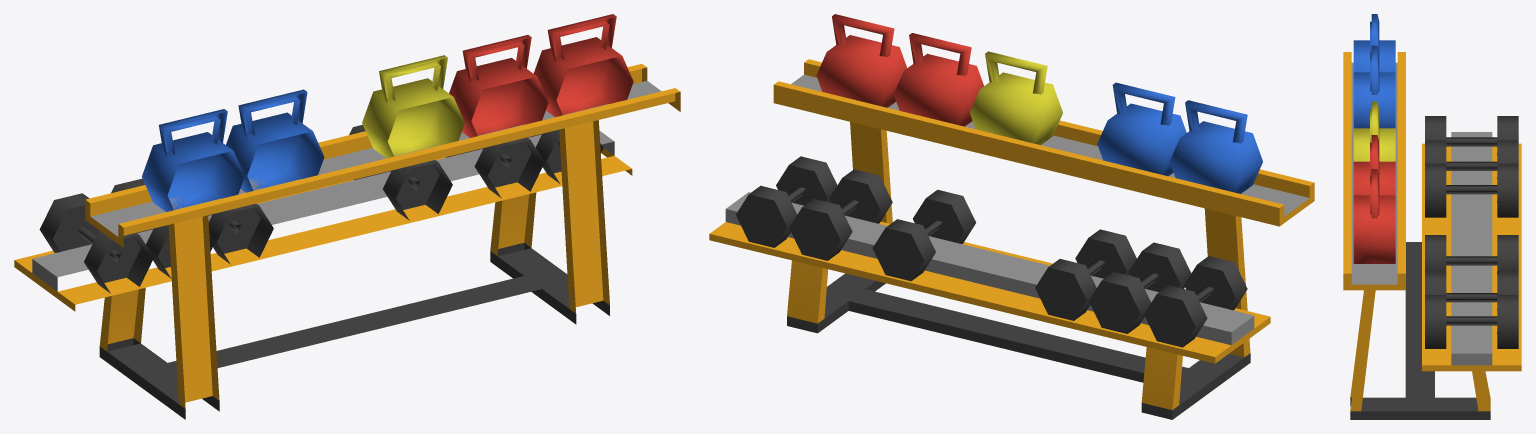
File: interior_k_009.fbx
The picture shows the model from 3 angles, left to right: view 1: azimuth 30°, elevation 25°; view 2: azimuth 150°, elevation 25°; view 3: azimuth 270°, elevation 25°; orthographic projection. The views are drawn at different scales.
Visible parts, largest first — view 1: interior_k_009; view 2: interior_k_009; view 3: interior_k_009.
Boxes of the visible parts, bbox=[...] form: interior_k_009: bbox=[14, 14, 680, 419]; interior_k_009: bbox=[709, 14, 1314, 419]; interior_k_009: bbox=[1343, 14, 1521, 419].
Bounding box in the file's own units: 173 × 84.5 × 58.64.
